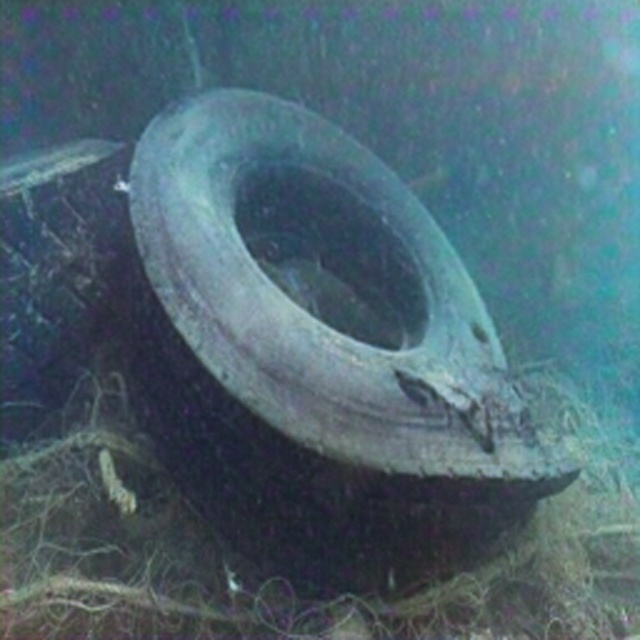mine: (126, 82, 578, 588)
